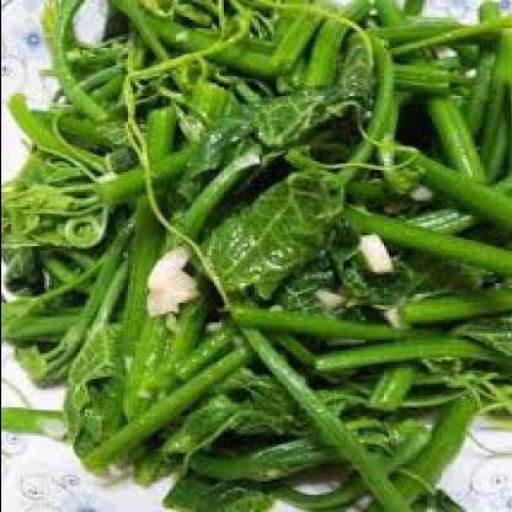biodegradable: (34, 2, 472, 488), (1, 176, 510, 388), (196, 300, 423, 511), (89, 113, 172, 453), (282, 4, 390, 202), (79, 351, 251, 466), (376, 2, 486, 181), (19, 226, 134, 388), (199, 175, 330, 300), (119, 298, 203, 480), (34, 2, 152, 124), (196, 80, 366, 161), (152, 472, 462, 510), (294, 331, 510, 382), (2, 158, 108, 256), (0, 257, 103, 348), (1, 92, 118, 171), (342, 222, 510, 276), (120, 22, 280, 74), (390, 155, 510, 222), (397, 386, 478, 482), (466, 2, 510, 159), (292, 3, 366, 91), (91, 146, 180, 218), (1, 246, 91, 307), (392, 286, 508, 331), (466, 2, 510, 120), (258, 2, 322, 83), (218, 320, 423, 345), (352, 355, 414, 414), (143, 249, 194, 320), (175, 2, 266, 34), (1, 408, 65, 446), (347, 235, 385, 279), (405, 490, 463, 511), (311, 292, 335, 316)
